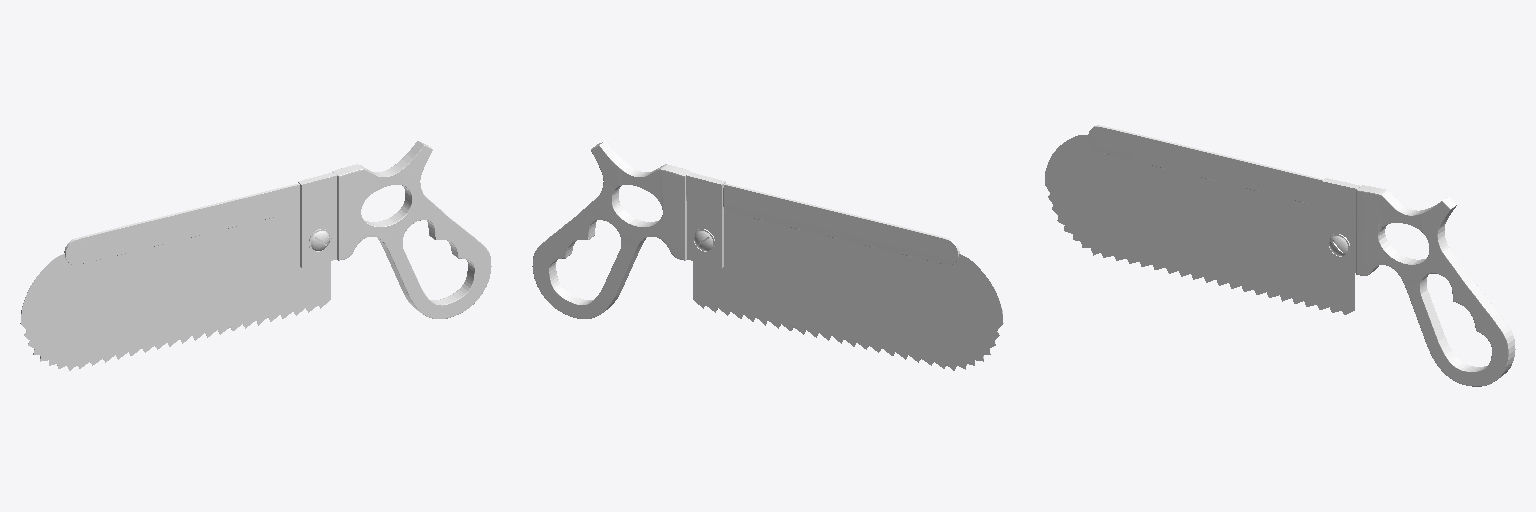
URDF robot description (apple):
<?xml version="1.0" encoding="utf-8"?>
<robot name="apple">
  <link name="base_link">
    <contact>
      <lateral_friction value="0.5"/>
      <rolling_friction value="0.0"/>
      <contact_cfm value="0.0"/>
      <contact_erp value="1.0"/>
    </contact>
    <inertial>
      <origin rpy="0 0 0" xyz="0 0 0"/>
      <mass value=".1"/>
      <inertia ixx="0" ixy="0" ixz="0" iyy="0" iyz="0" izz="0"/>
    </inertial>
    <visual>
      <origin rpy="1.57 0 0" xyz="0 0 0"/>
      <geometry>
        <mesh filename="models/meshes/wood_cutter/Bone_Saw.obj" scale="0.4 0.4 0.4"/>
      </geometry>
      <material name="hi">
        <color rgba="1 1 1 1"/>
      </material>
    </visual>
    <collision>
      <origin rpy="1.57 0 0" xyz="0 0 0"/>
      <geometry>
        <mesh filename="models/meshes/wood_cutter/Bone_Saw.obj" scale="0.4 0.4 0.4"/>
      </geometry>
    </collision>
  </link>
</robot>

--- What the picture shows (computed from the rendered views, not written in the file) ---
The picture shows the robot from 3 angles, left to right: view 1: azimuth 30°, elevation 25°; view 2: azimuth 150°, elevation 25°; view 3: azimuth 330°, elevation 25°; orthographic projection.
Model apple with 1 links and 0 joints (none), rooted at base_link, posed every joint at zero.
Links seen in each view (by area): view 1: base_link; view 2: base_link; view 3: base_link.
Boxes of the visible links, box(x1,y1,x2,y2) form: base_link: box(20, 141, 491, 370); base_link: box(532, 141, 1003, 370); base_link: box(1045, 125, 1515, 386).
Size in the robot's own frame: 0.7794 by 0.0248 by 0.285 metres.
1 mesh visuals loaded from 1 distinct referenced files (1 OBJ).